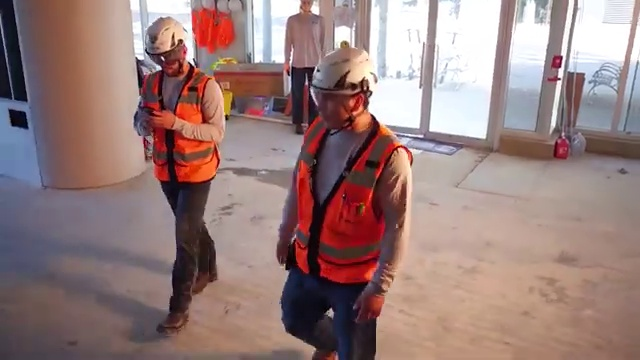helmet: (307, 33, 382, 96), (142, 17, 190, 48)
jacket: (297, 111, 391, 305), (141, 70, 227, 179)
